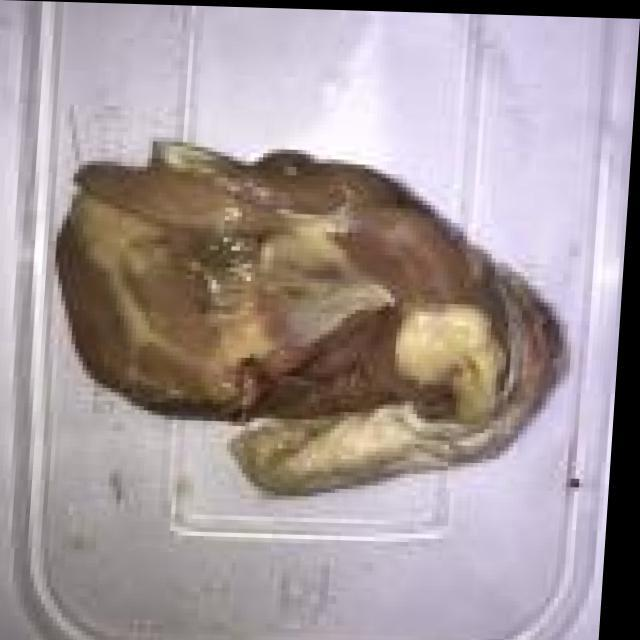breast: (39, 116, 576, 512)
